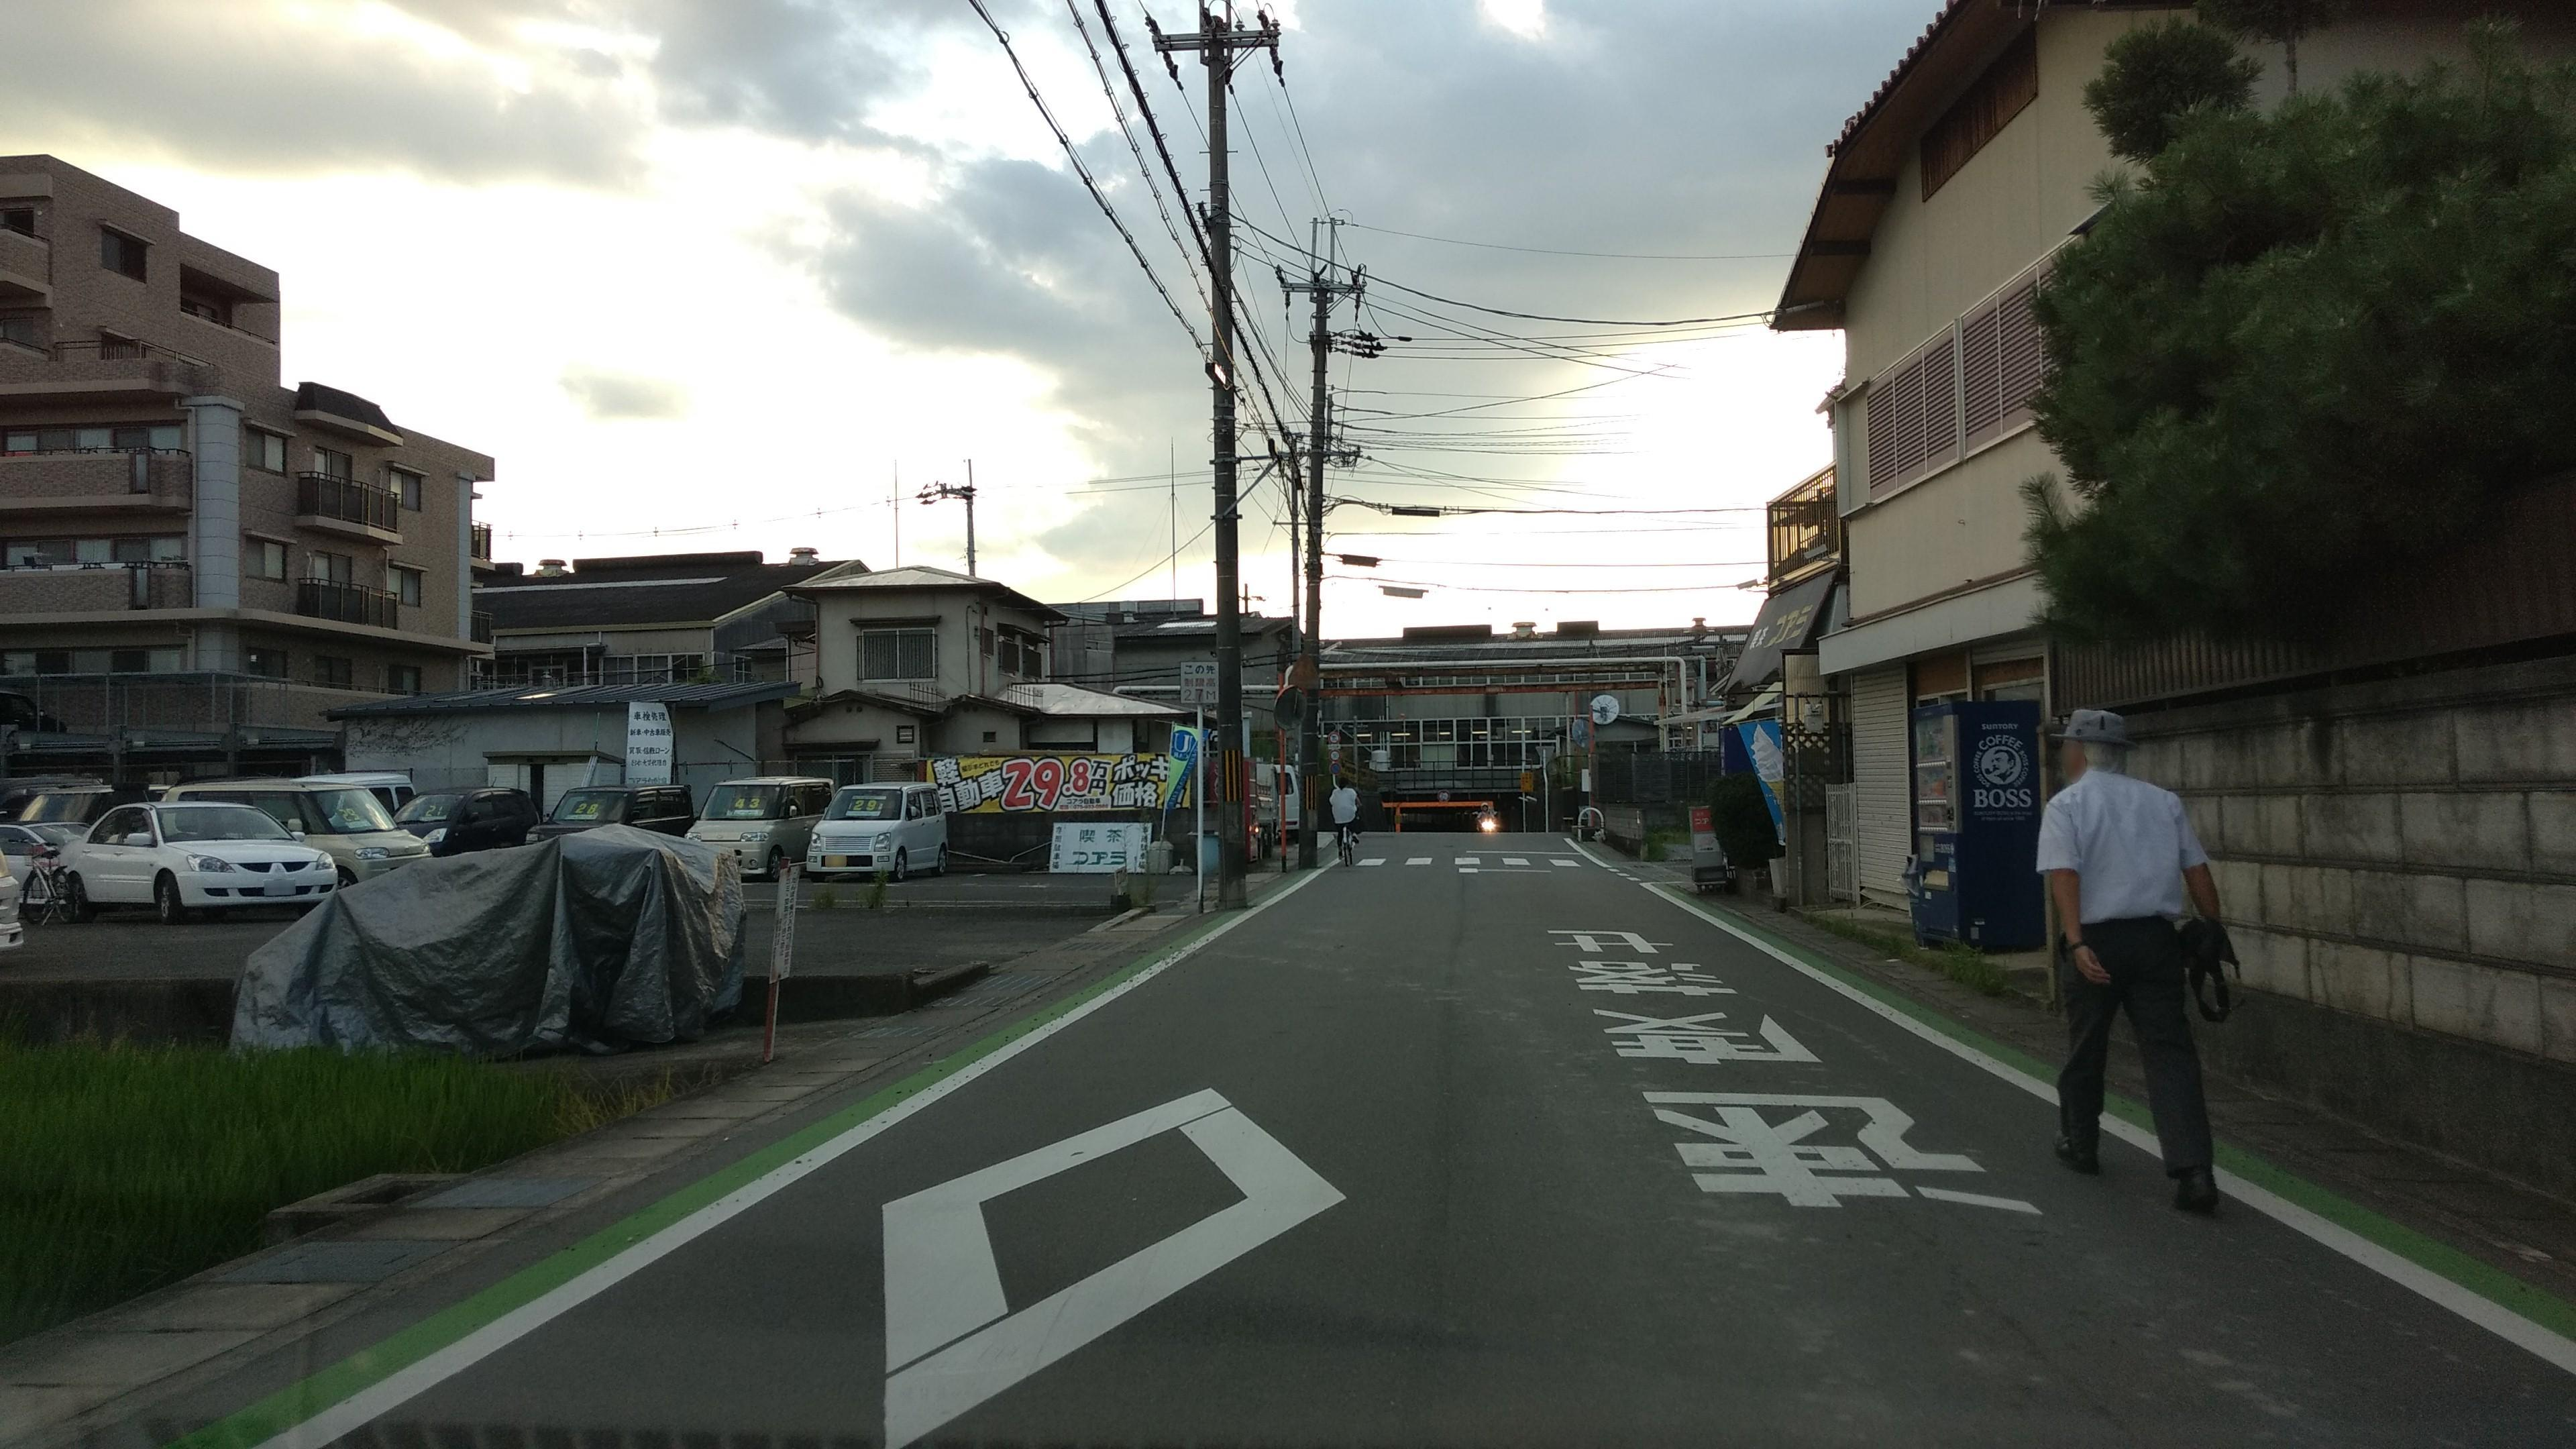vinyl banner: (913, 747, 1185, 817)
